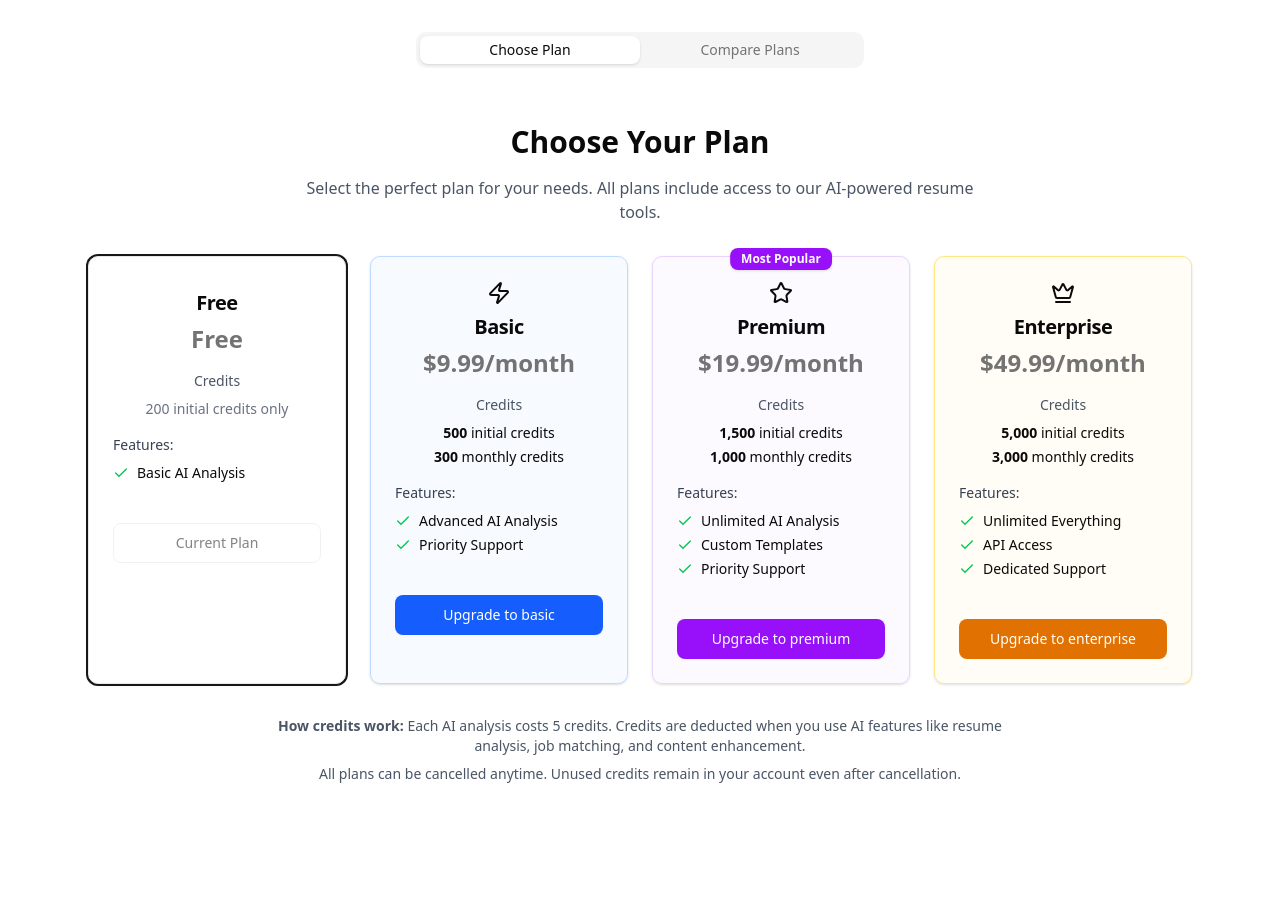
Test: SubscriptionManagement › allows plan selection from comparison view
Note: Switch to comparison tab
Click the tab "Compare Plans": (750, 50) [640,36,860,64]
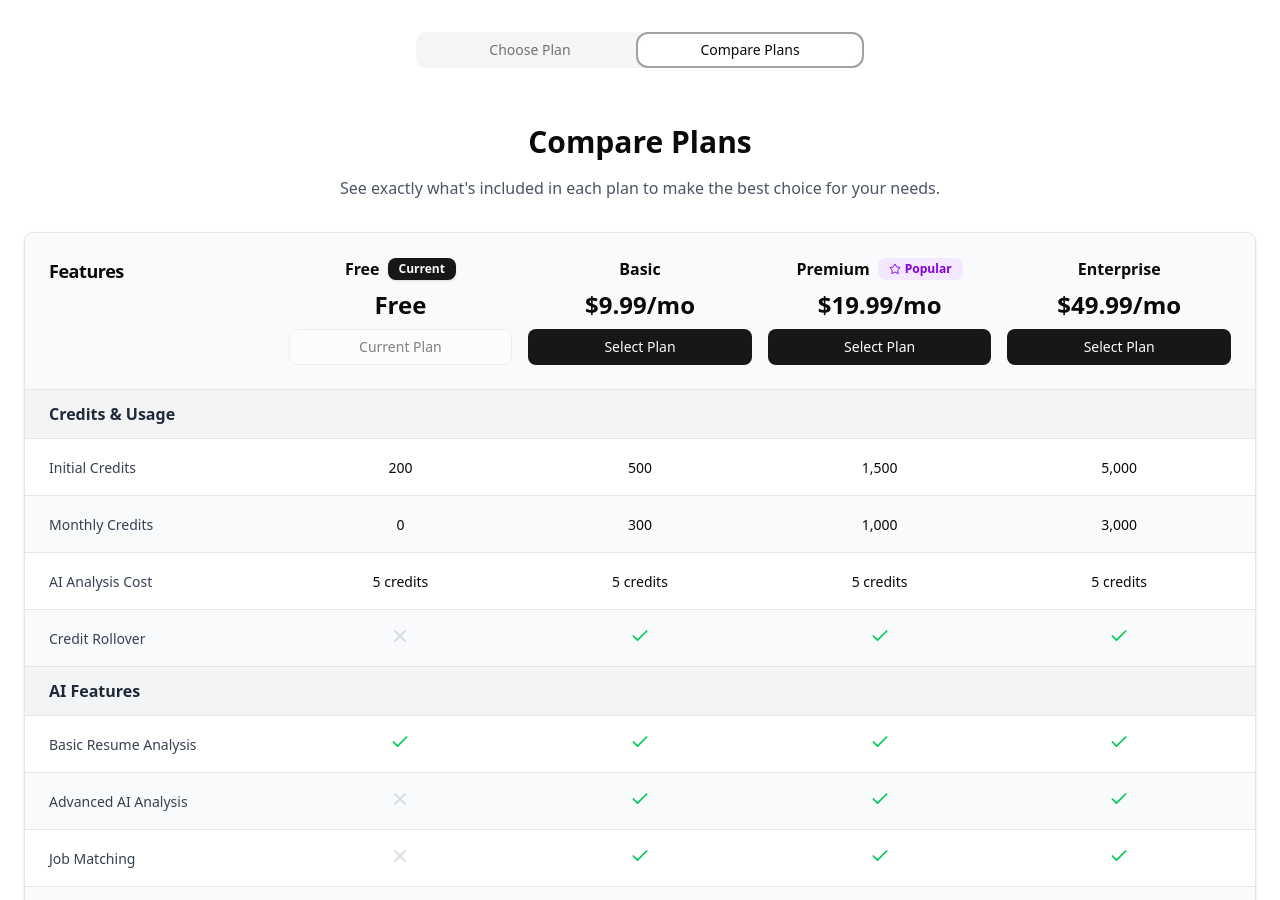
Expected: the button "Select Plan" below "$9.99/mo" is shown
Note: Select plan from comparison view
Click the button "Select Plan" below "$9.99/mo": (640, 347) [528,329,752,365]
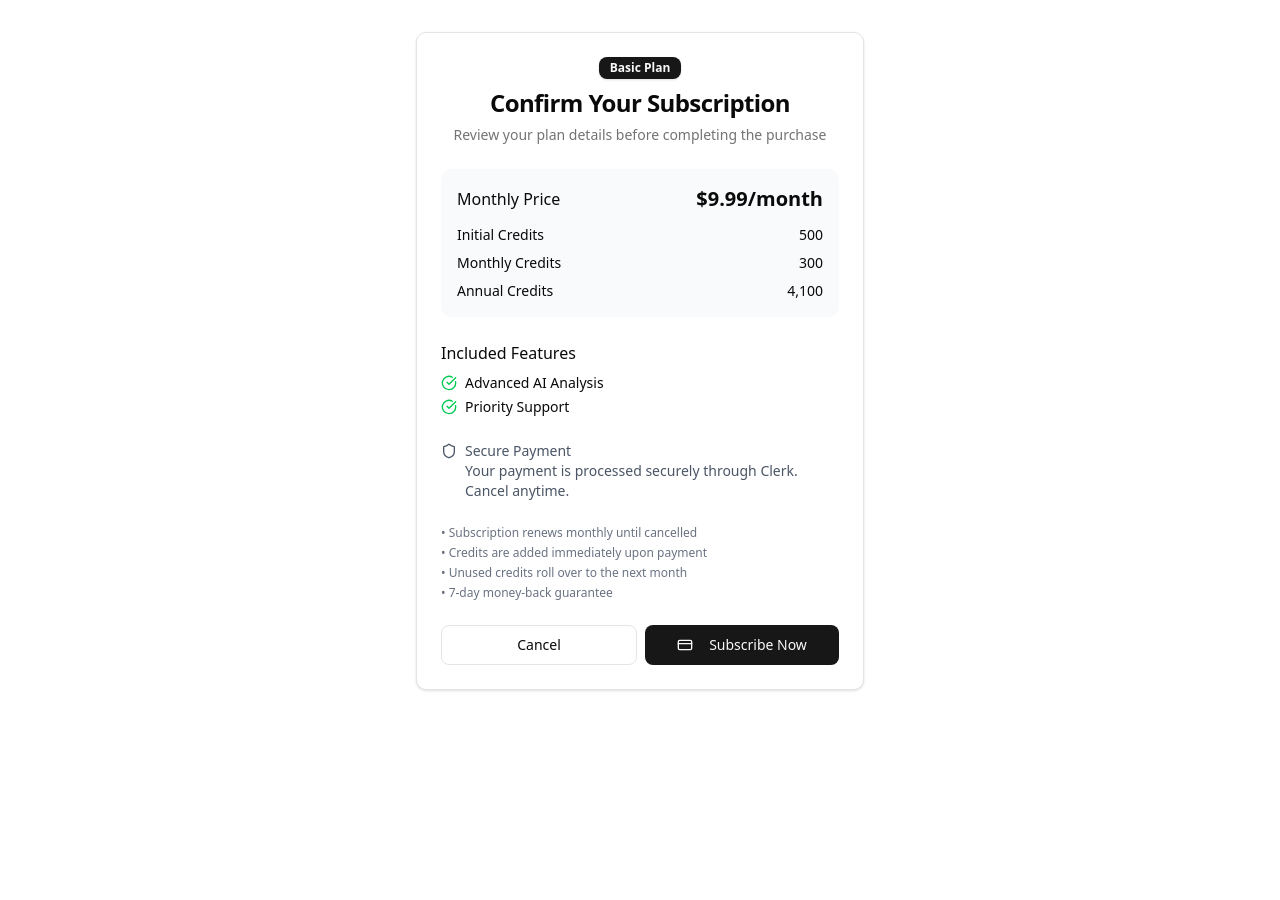
Expected: the text "Confirm Your Subscription" is shown, [490,86,790,119]
